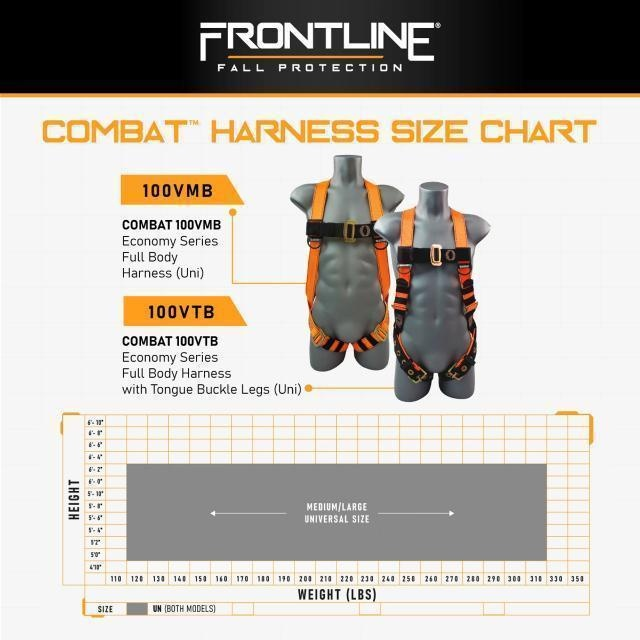Arnes_seguridad: (390, 199, 489, 389), (306, 175, 394, 360)
